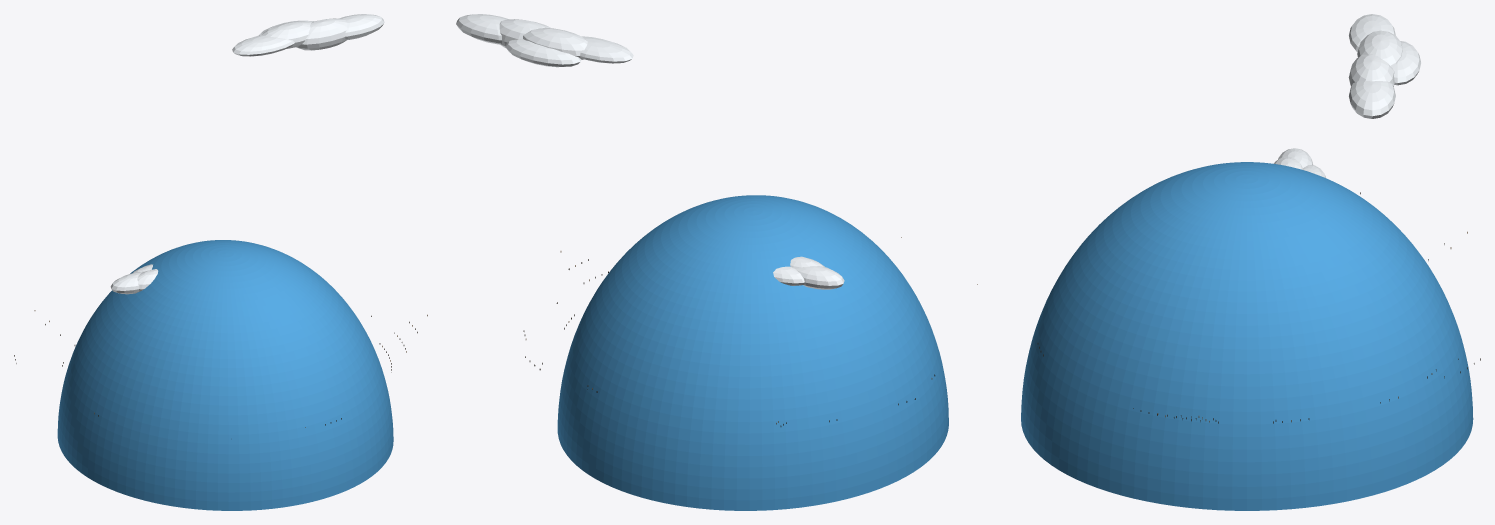
The model's file is Sage_1214.fbx.
3 renders of one model, left to right at view 1: azimuth 30°, elevation 25°; view 2: azimuth 150°, elevation 25°; view 3: azimuth 270°, elevation 25°, orthographic. The views are drawn at different scales.
Parts seen in each view (by area): view 1: SKY_DOME, CLOUD.009, CLOUD.007, CLOUD.010, CLOUD.008, CLOUD.001; view 2: SKY_DOME, CLOUD.012, CLOUD.008, CLOUD.010, CLOUD.007, CLOUD.001, CLOUD.009; view 3: SKY_DOME, CLOUD.010, CLOUD.008, CLOUD.009, CLOUD.007, CLOUD.012.
Boxes of the visible parts, left/top/right/bottom form: SKY_DOME: left=57, top=240, right=393, bottom=510; CLOUD.009: left=296, top=18, right=347, bottom=50; CLOUD.007: left=232, top=35, right=294, bottom=56; CLOUD.010: left=339, top=14, right=384, bottom=39; CLOUD.008: left=261, top=21, right=312, bottom=48; CLOUD.001: left=110, top=271, right=143, bottom=294; SKY_DOME: left=557, top=195, right=948, bottom=510; CLOUD.012: left=505, top=39, right=581, bottom=67; CLOUD.008: left=523, top=27, right=587, bottom=59; CLOUD.010: left=456, top=14, right=508, bottom=44; CLOUD.007: left=580, top=36, right=633, bottom=63; CLOUD.001: left=795, top=266, right=844, bottom=289; CLOUD.009: left=499, top=19, right=551, bottom=47; SKY_DOME: left=1021, top=162, right=1473, bottom=510; CLOUD.010: left=1349, top=81, right=1395, bottom=118; CLOUD.008: left=1357, top=30, right=1402, bottom=67; CLOUD.009: left=1348, top=54, right=1394, bottom=86; CLOUD.007: left=1349, top=14, right=1395, bottom=52; CLOUD.012: left=1393, top=41, right=1420, bottom=85.
Size of the model in its own units: 21473 by 18730 by 18885.
